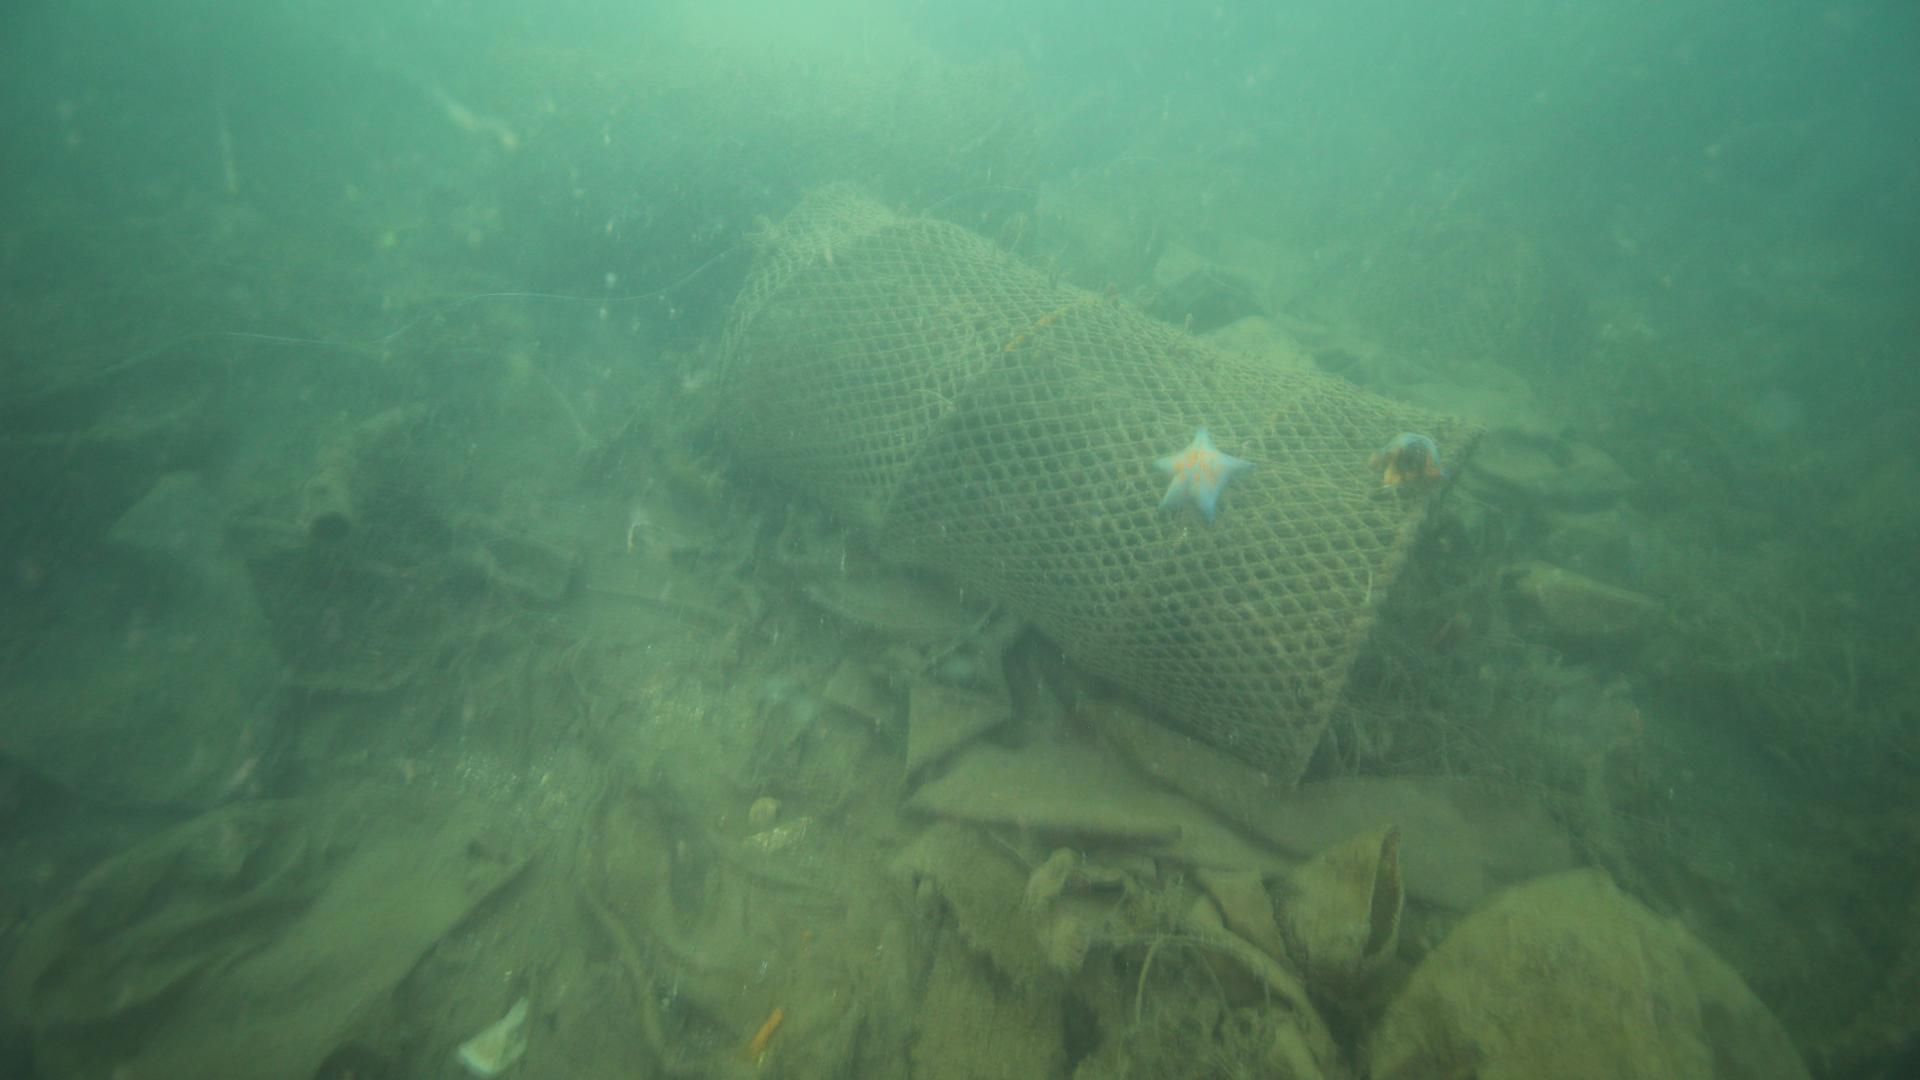spring fish trap: (696, 183, 1481, 796)
